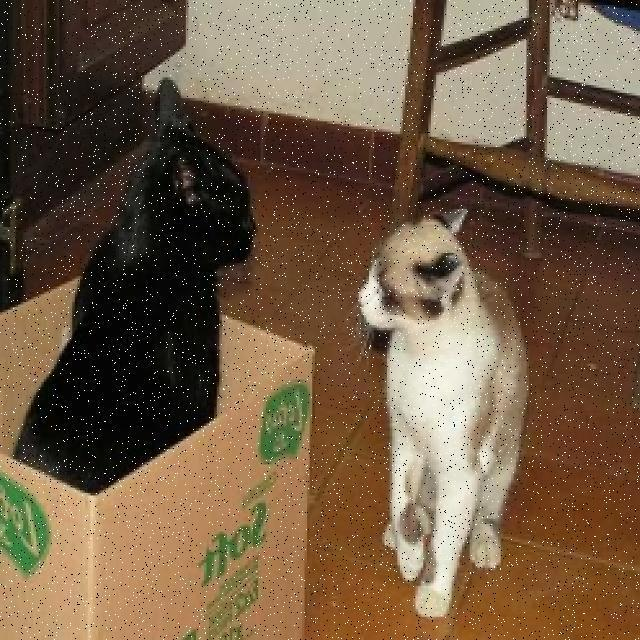box: (0, 260, 331, 640)
